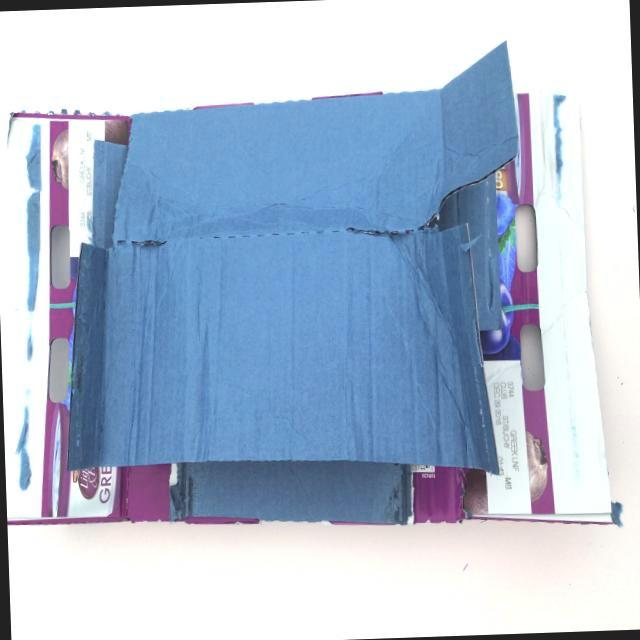cardboard: (0, 31, 640, 571)
